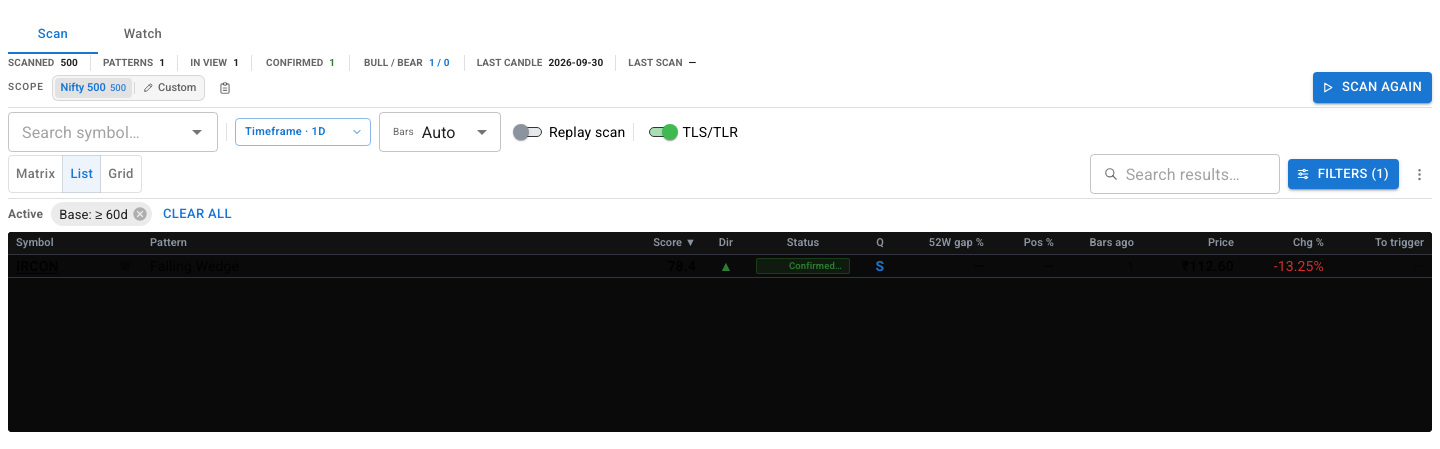
it: PatternsPage watch tab › clicking the Watch tab renders the WatchView
This screenshot has width=1440, height=449.
Click the tab with test id "patterns-tab-watch".
click(143, 34)  # box 98,14 -> 188,54
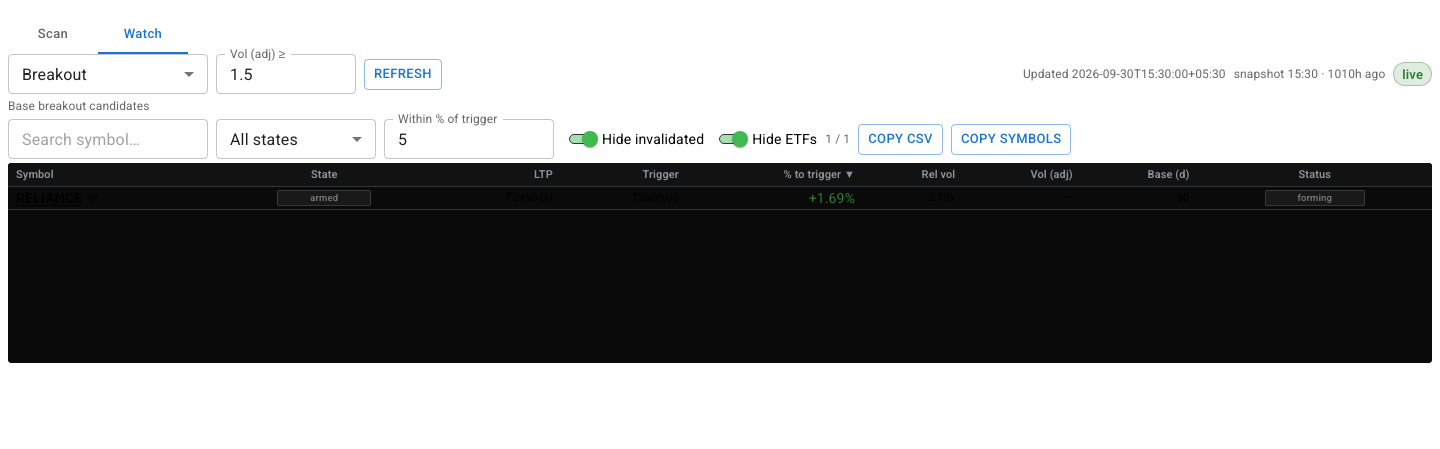
expect the element with test id "watch-view" is shown: met
expect the row with test id "watch-row-RELIANCE" is shown: met, box 8,186 -> 1432,209
